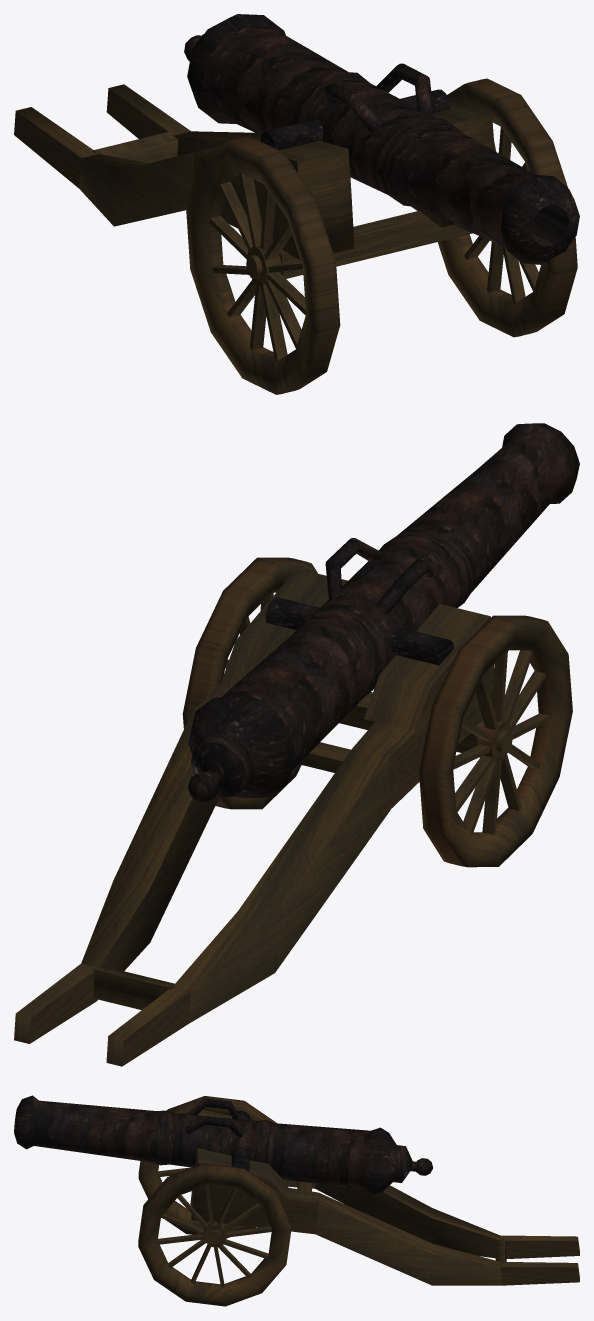
The model's file is old.cannon.obj.
3 views of the same model, one above another, from view 1: azimuth 30°, elevation 25°; view 2: azimuth 150°, elevation 25°; view 3: azimuth 270°, elevation 25° (orthographic). The views are drawn at different scales.
Parts seen in each view (by area): view 1: barrel, wheels_outframe, woodtopside, wheels_bar, woodfront, axle_lower; view 2: woodtopside, barrel, wheels_outframe, wheels_bar, woodfront, axle_lower; view 3: barrel, woodtopside, wheels_outframe, wheels_bar.
Boxes of the visible parts, box(x1,y1,x2,y2) form: barrel: box(184, 14, 579, 264); wheels_outframe: box(186, 78, 577, 394); woodtopside: box(14, 84, 491, 259); wheels_bar: box(210, 127, 538, 361); woodfront: box(92, 114, 494, 253); axle_lower: box(279, 211, 472, 278); woodtopside: box(14, 569, 494, 1066); barrel: box(188, 423, 579, 802); wheels_outframe: box(182, 557, 572, 867); wheels_bar: box(225, 592, 549, 834); woodfront: box(92, 753, 342, 1009); axle_lower: box(339, 692, 484, 752); barrel: box(14, 1095, 432, 1195); woodtopside: box(191, 1110, 579, 1285); wheels_outframe: box(138, 1096, 291, 1306); wheels_bar: box(157, 1167, 272, 1287).
Bounding box in the file's own units: 18.92 × 20.44 × 60.86.
Materials: 6 (6 with a texture image).
